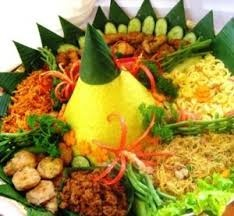tumpeng: (51, 20, 161, 159)
